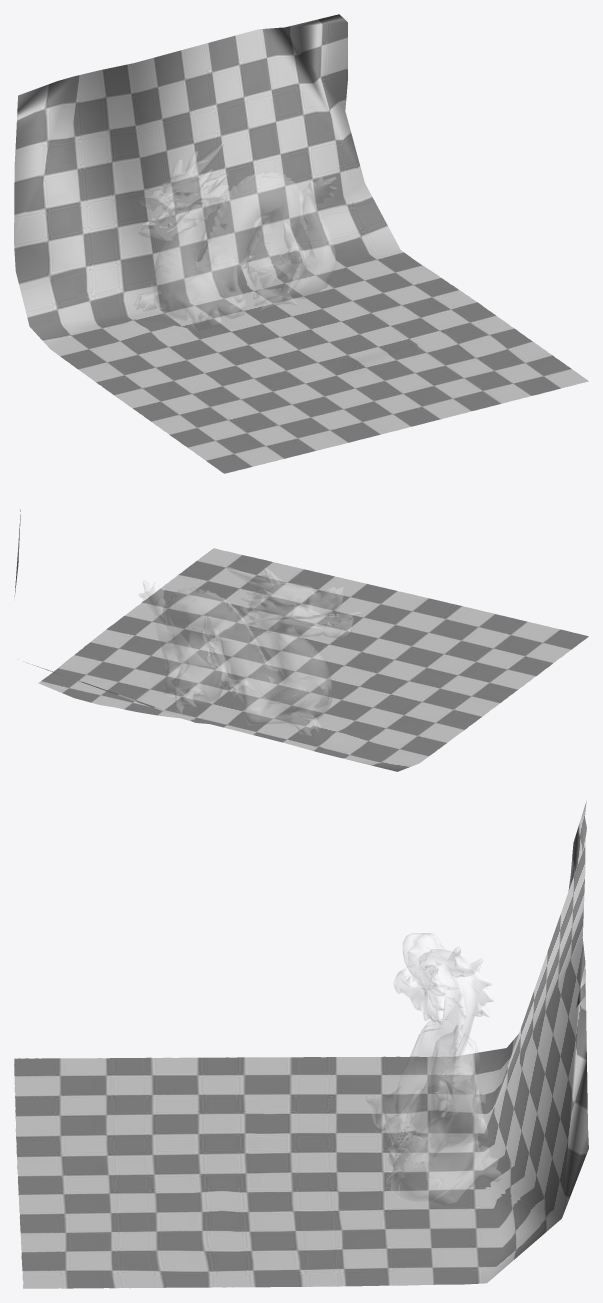
The model's file is DragonAttenuation.glb.
3 renders of one model, top to bottom at view 1: azimuth 30°, elevation 25°; view 2: azimuth 150°, elevation 25°; view 3: azimuth 270°, elevation 25°, orthographic. The views are drawn at different scales.
Visible parts, largest first — view 1: Cloth Backdrop, Dragon; view 2: Cloth Backdrop, Dragon; view 3: Cloth Backdrop, Dragon.
Part boxes in pixels (<box>): Cloth Backdrop: <box>14,14,588,473</box>; Dragon: <box>135,142,336,331</box>; Cloth Backdrop: <box>14,509,588,771</box>; Dragon: <box>139,567,360,736</box>; Cloth Backdrop: <box>14,801,588,1288</box>; Dragon: <box>366,933,501,1205</box>.
Bounding box in the file's own units: 6.31 × 3.56 × 6.61.
2 materials, 1 textured.
